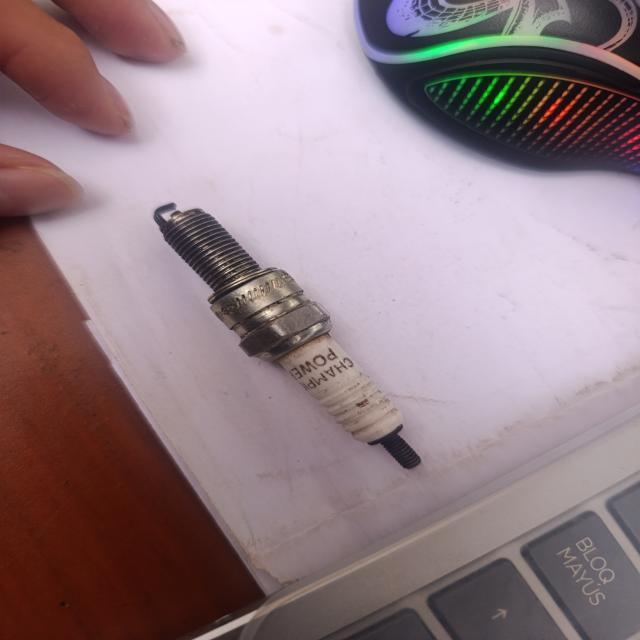bujia: (154, 203, 421, 469)
